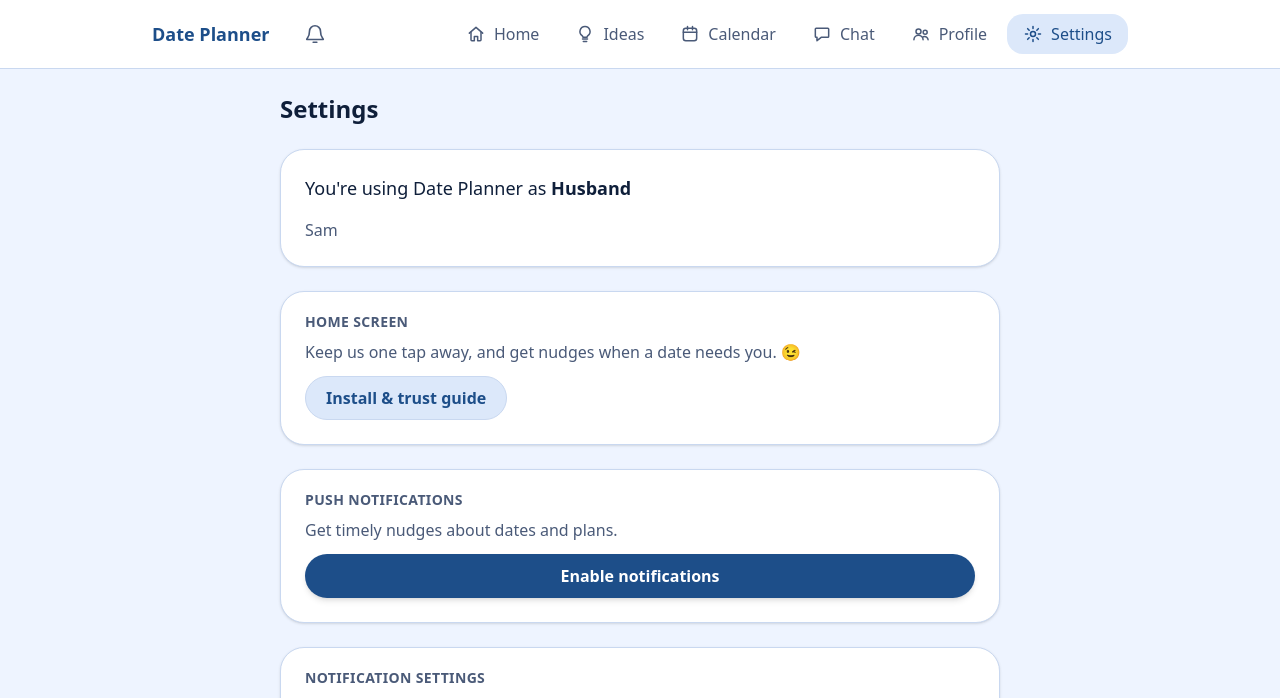
Test: PushSettings › shows an error when requesting permission rejects
This screenshot has width=1280, height=698.
Click the button "Enable notifications". click: (640, 576)
box: [305,554,975,598]
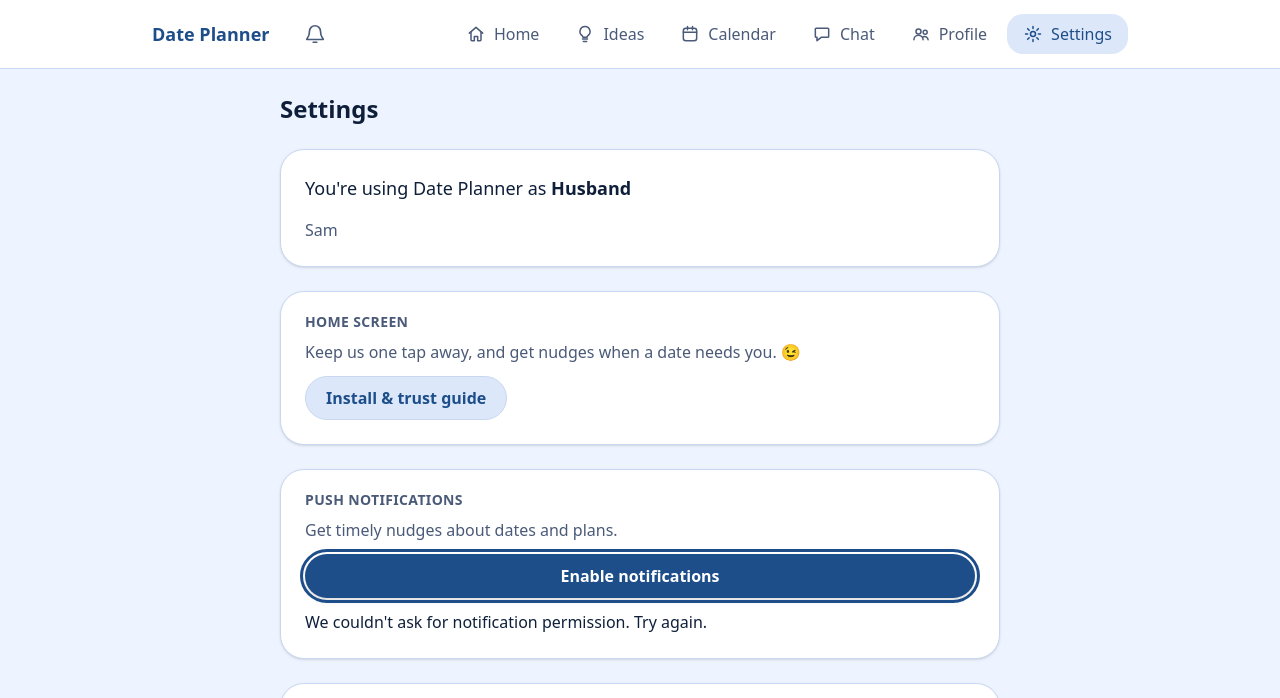
Check: the message reads "We couldn't ask for notification permission. Try again.", box [305,611,707,633]
